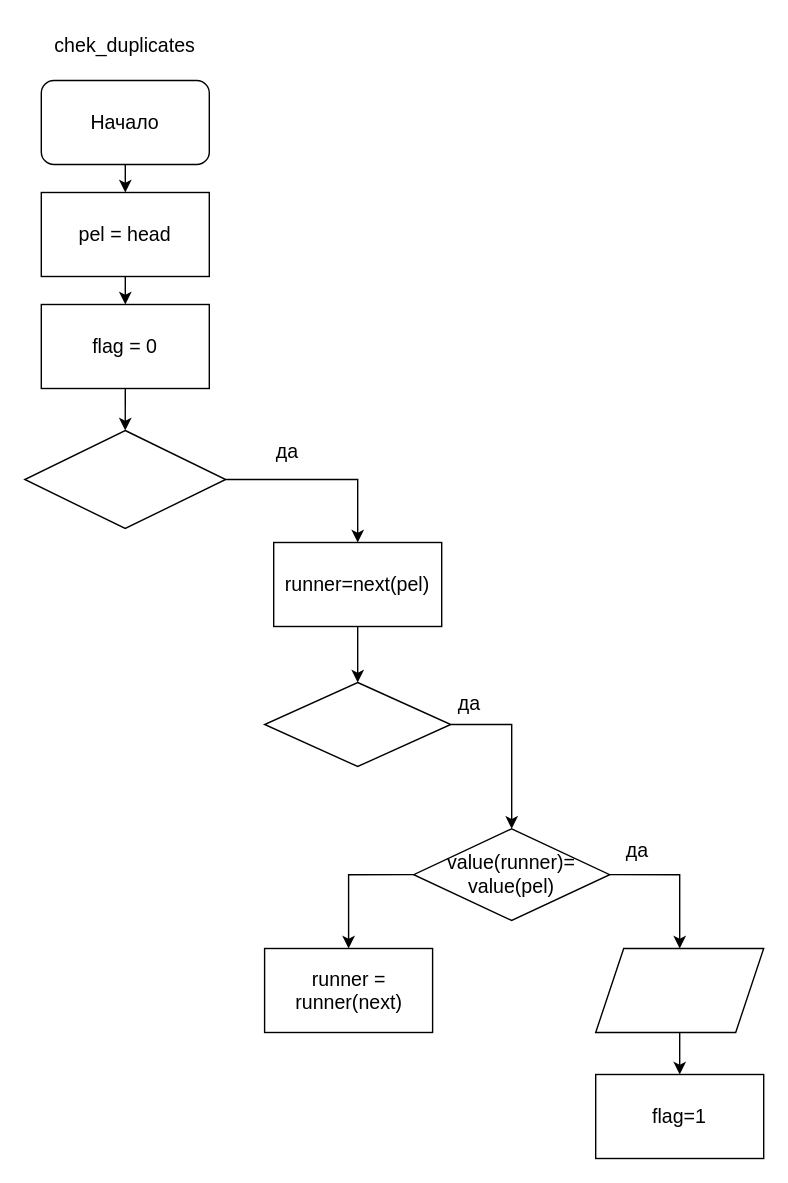
The diagram is 788 pixels wide and 1183 high, and some of its shapes have lost their labels. Each missing label, with the centre of its shape:
next(pel)<>NULL: point (124, 478)
runner<>NULL: point (357, 723)
вывод 'duplicates' value(runner): point (679, 989)
